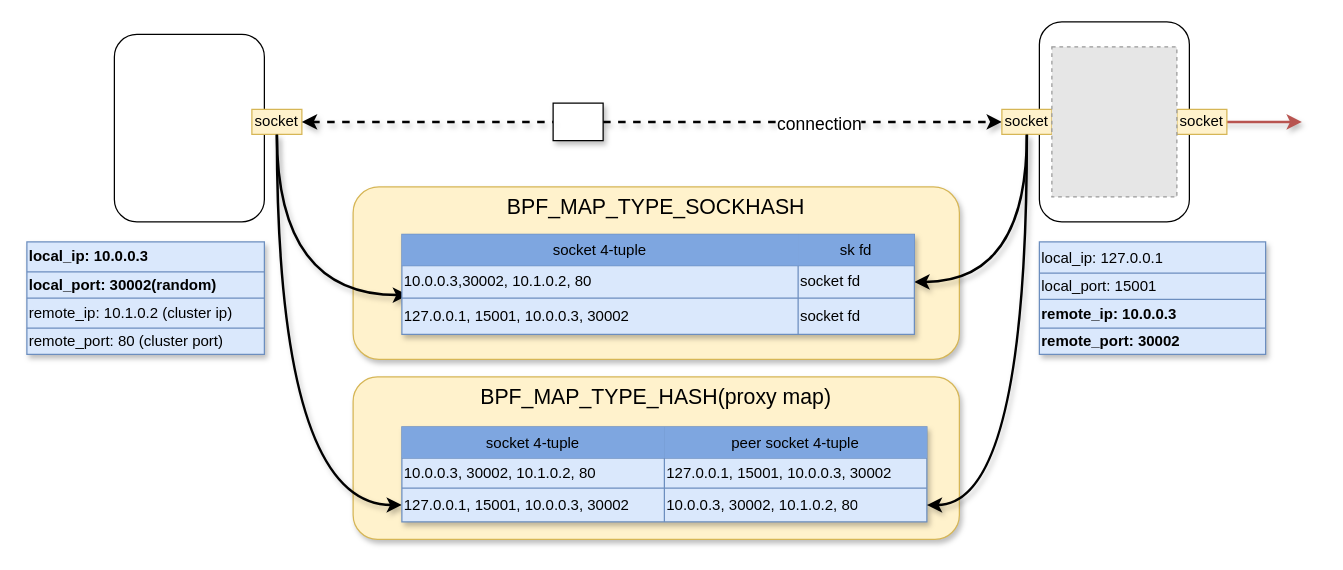
Image size: 1343x570. Some labels were removed from this diagram. Grey dashed boxes stand in for pictures. The centre of each missing label's shape, as x and y in pixels:
client app: the point at 188,127
msg: the point at 579,123
